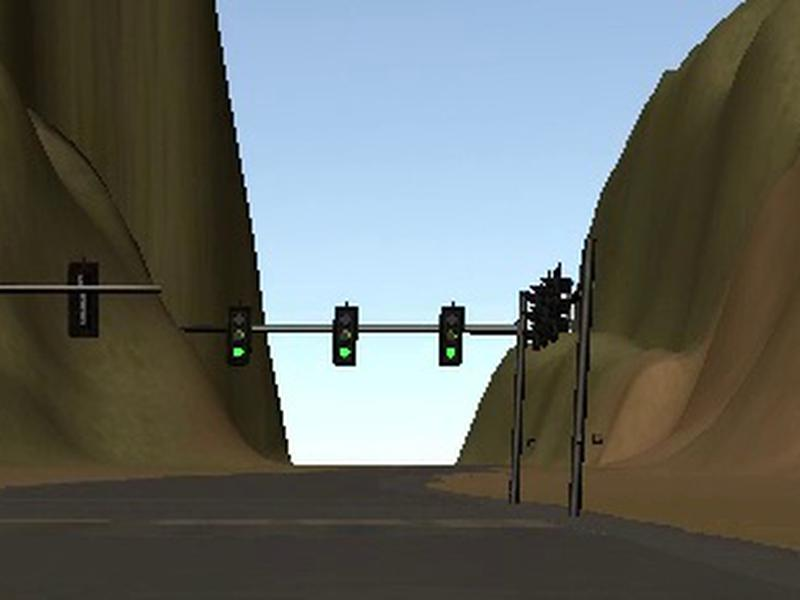Green: (332, 306, 358, 366), (439, 306, 465, 366), (229, 306, 250, 364)
